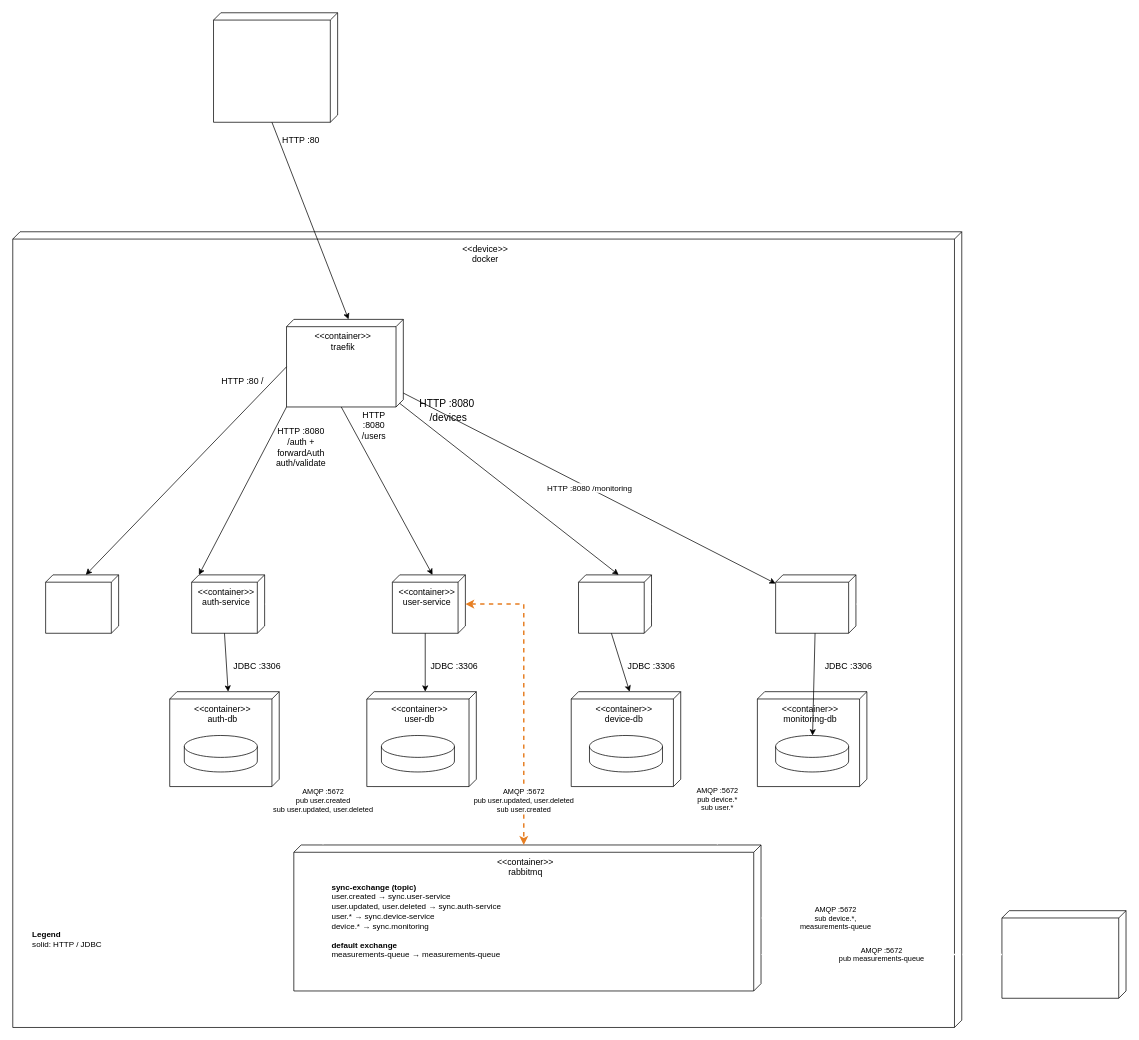
Image size: 1139x1040. Some labels were removed from this diagram. The shapes that lost their labels are listed below. From the top down, each one's centre as x and y in pixels, then its label:
At pixel 275 67: "<<device>> client".
At pixel 82 603: "<<container>> frontend".
At pixel 615 603: "<<container>> device-service".
At pixel 815 603: "<<container>> monitoring-service".
At pixel 1063 954: "<<device>> host PC simulator.py".
